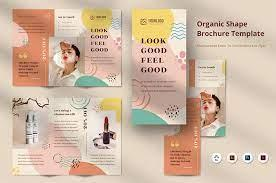paper: (12, 8, 123, 176), (132, 9, 226, 176)
